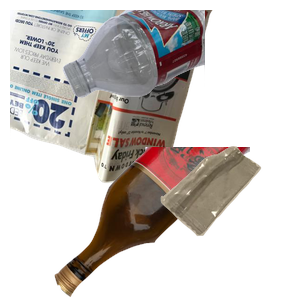glass: (52, 147, 292, 300)
paper: (10, 10, 215, 186)
plastic: (60, 10, 300, 100)
trash: (158, 144, 300, 300)
